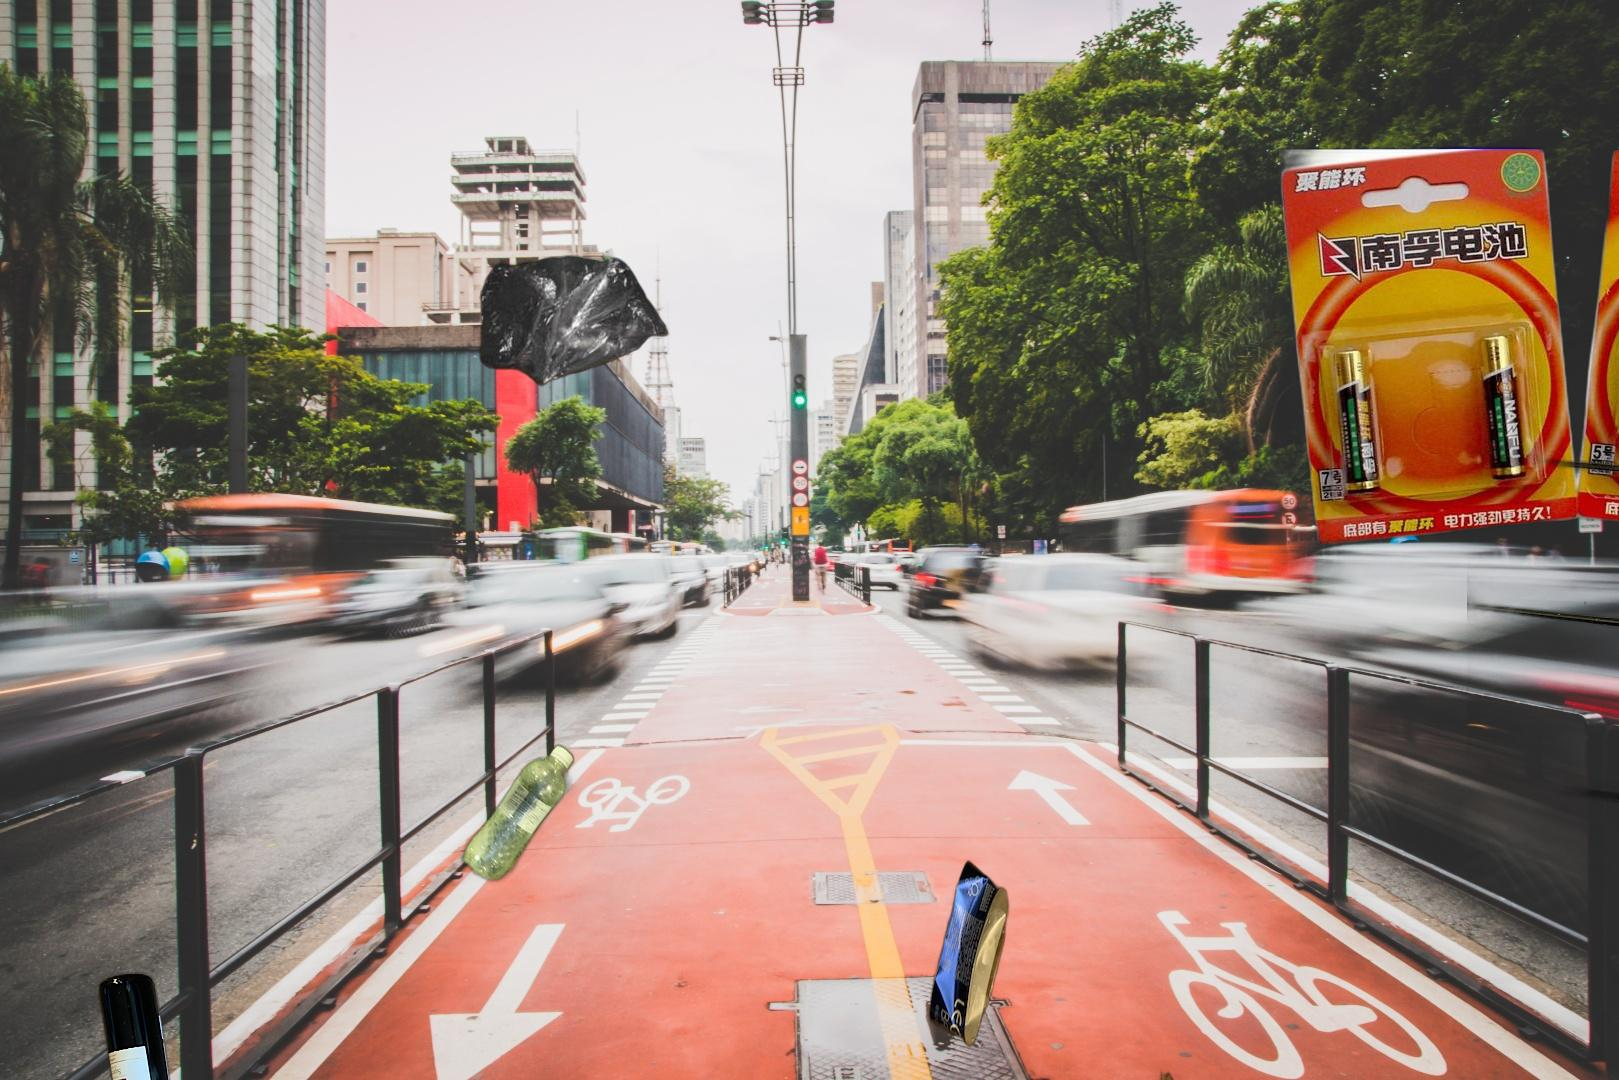battery: (1279, 135, 1619, 548)
glass: (93, 967, 345, 1080)
metal-cans: (1467, 301, 1619, 984)
plastic-bag: (438, 165, 671, 391)
plastic-bottles: (305, 738, 817, 1080), (894, 857, 1185, 1080)
